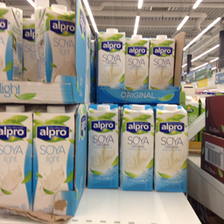milk: (34, 104, 75, 211), (1, 105, 34, 215), (35, 4, 77, 88), (155, 102, 190, 193), (120, 103, 154, 191), (89, 104, 121, 191), (97, 27, 127, 88), (1, 3, 23, 80), (149, 35, 175, 92), (126, 34, 150, 91)
